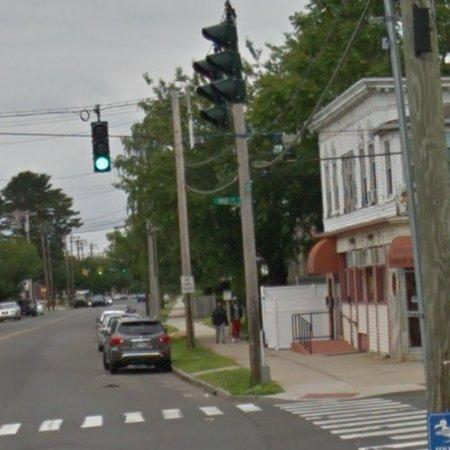crosswalks: (276, 397, 431, 450)
